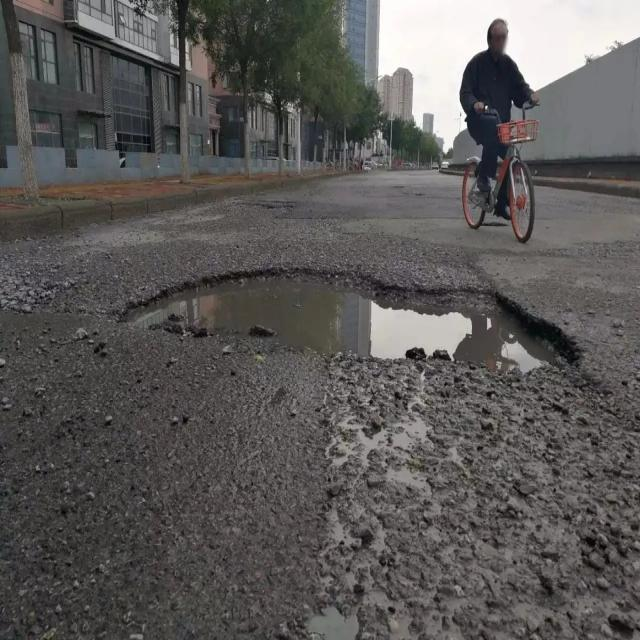Pothole: (113, 264, 589, 376)
